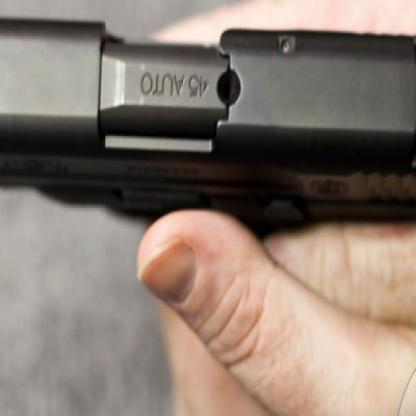gun: (0, 0, 415, 310)
